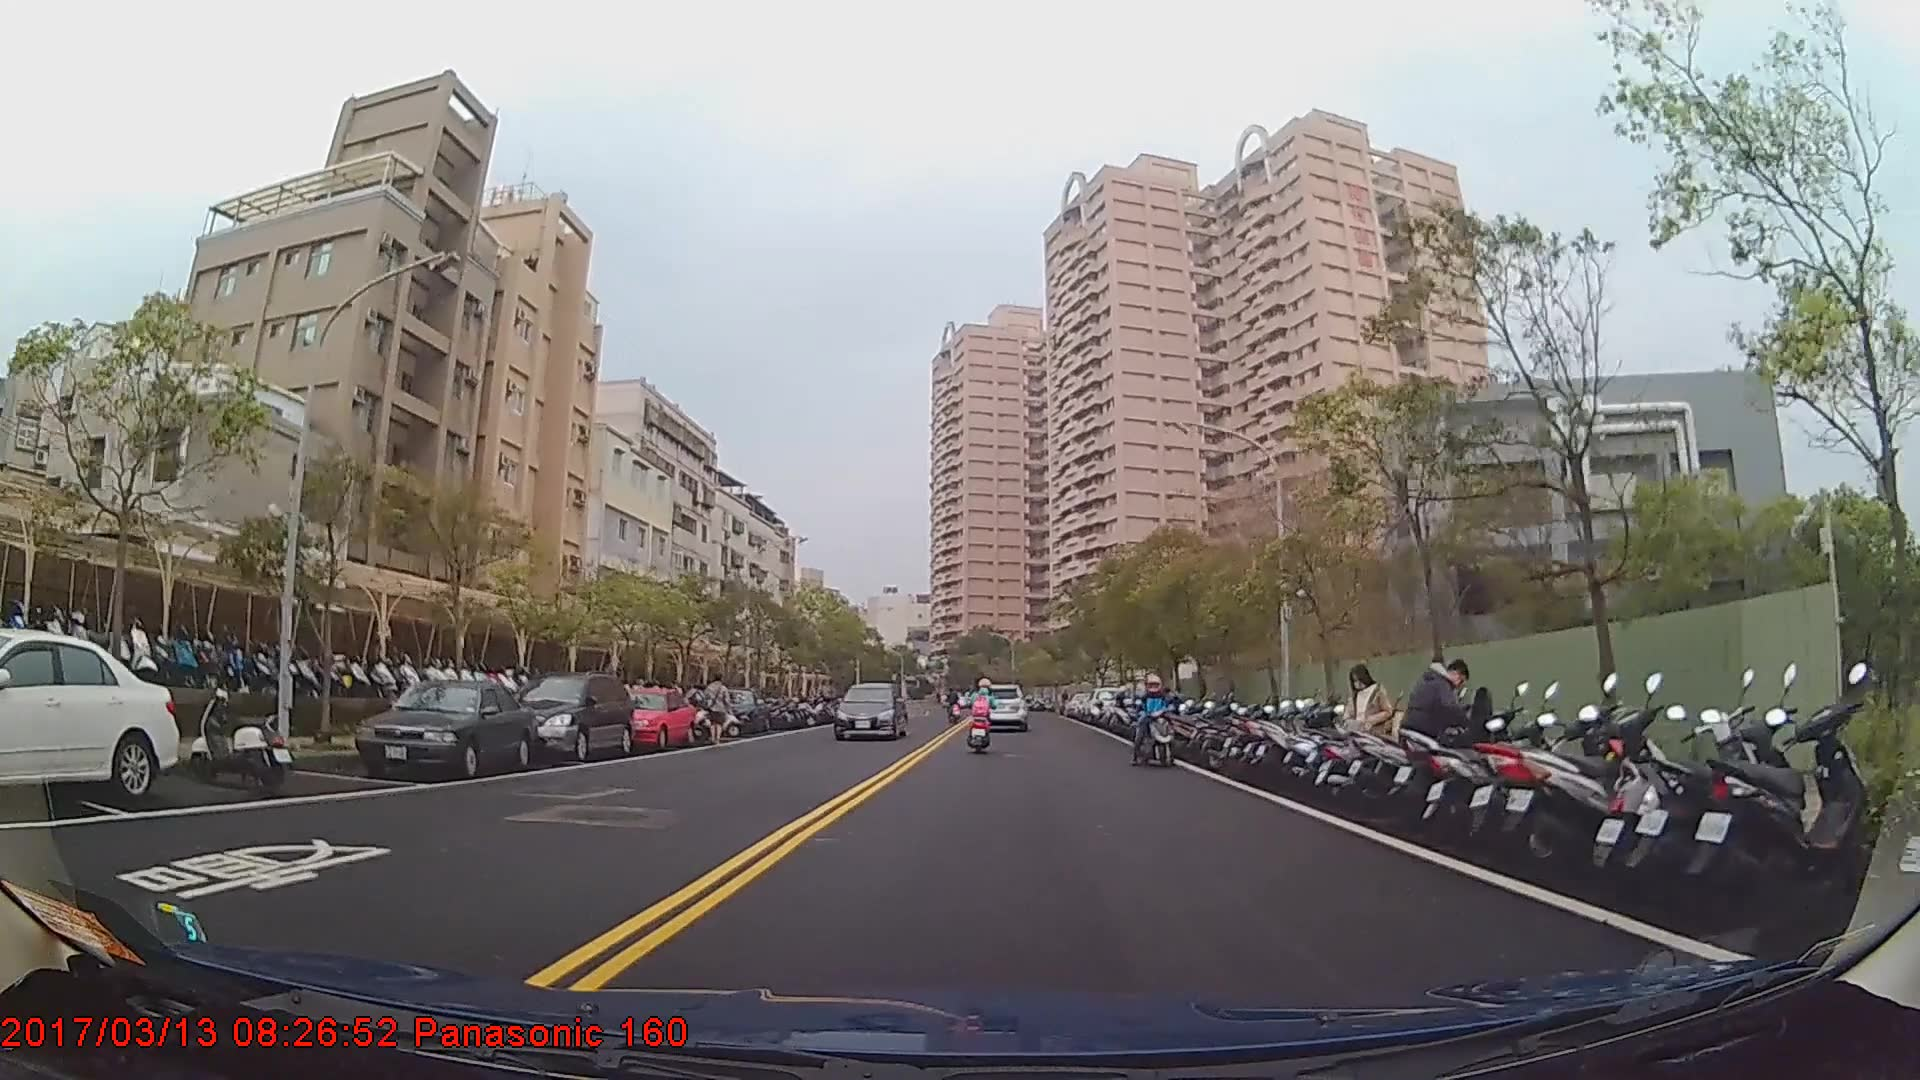pedestrian: (1399, 654, 1481, 825), (1343, 666, 1405, 814), (1429, 661, 1464, 760), (703, 674, 734, 748)
rider: (1129, 674, 1177, 769), (966, 681, 997, 751)
vehicle: (0, 629, 181, 808), (352, 678, 533, 779), (502, 673, 634, 765), (605, 686, 698, 751), (833, 682, 908, 742), (973, 681, 1027, 733)
